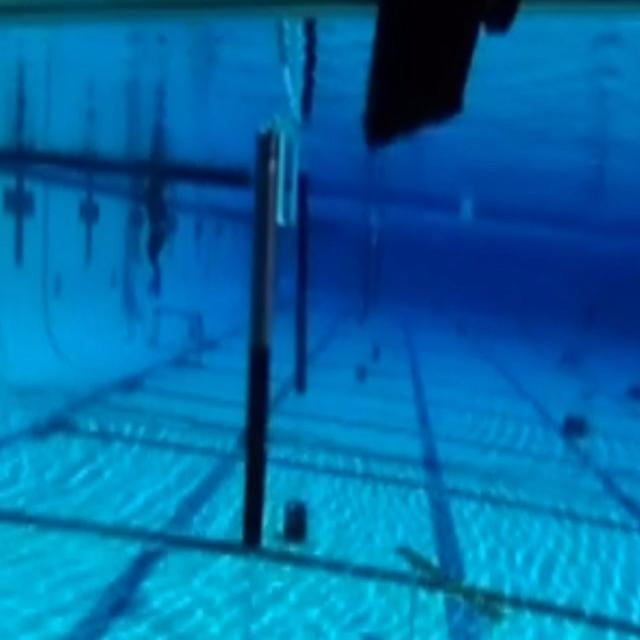Gate: (225, 114, 333, 585)
